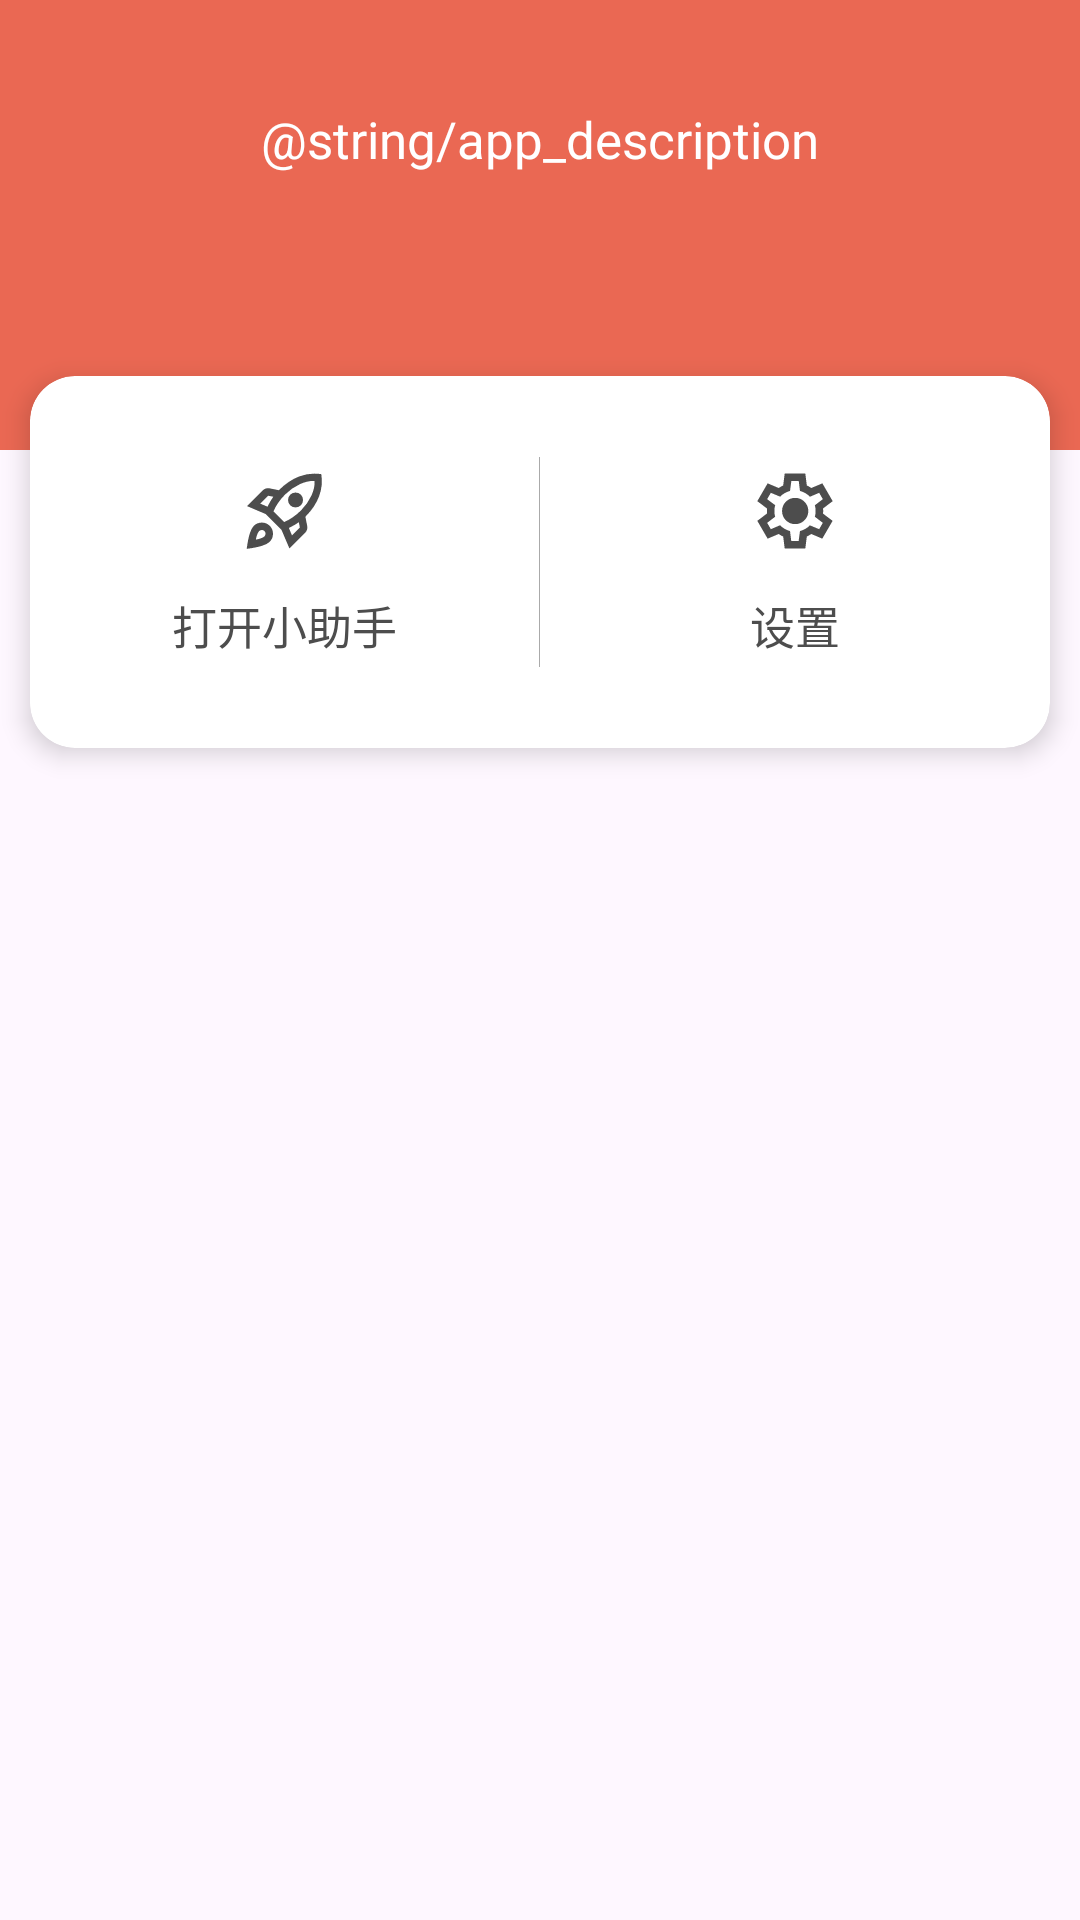

Screen size 1080 x 1920. Icon name, then its box in pixels as (x1, y1, x2, y2):
settings: (757, 473, 833, 549)
